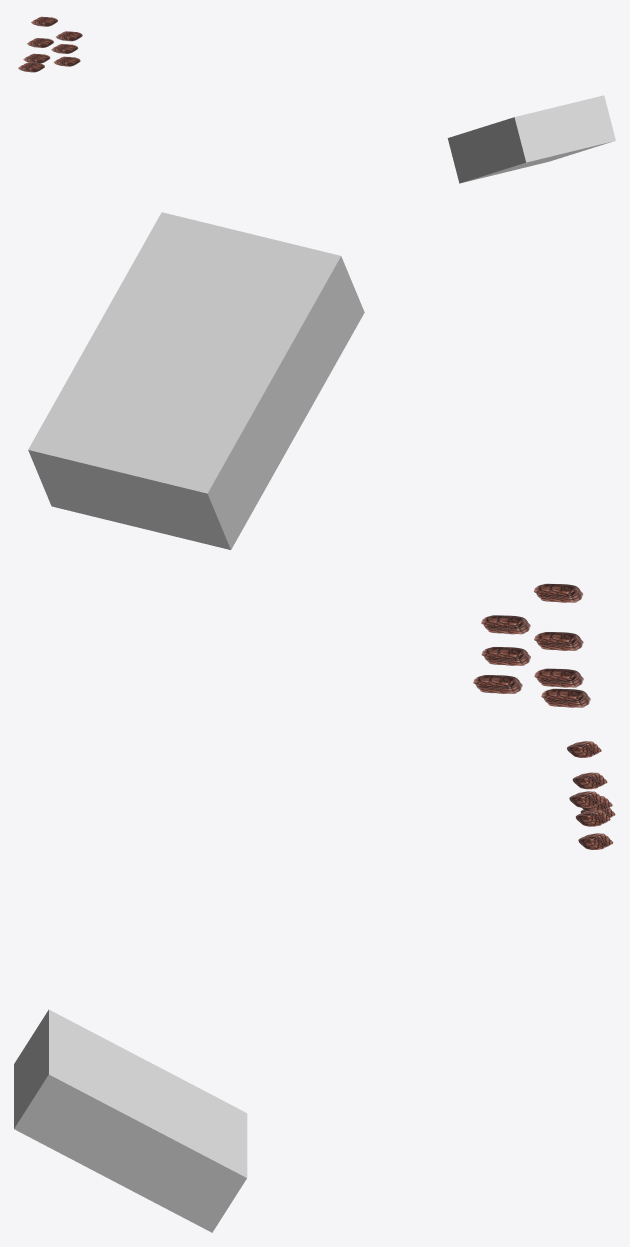
File: ani5.9f3ffcc0.glb
3 views of the same model, one above another, from view 1: azimuth 30°, elevation 25°; view 2: azimuth 150°, elevation 25°; view 3: azimuth 270°, elevation 25° (orthographic). The views are drawn at different scales.
Visible parts, largest first — view 1: Cube.001, Cube; view 2: Cube, Cube.001, Plane.005, Plane.001, Plane.006, Plane.003, Plane.002, Plane.007, Plane.004; view 3: Cube, Cube.001.
Boxes of the visible parts, x1=… form: Cube.001: x1=453, y1=118, x2=615, y2=183; Cube: x1=447, y1=95, x2=609, y2=160; Cube: x1=28, y1=212, x2=352, y2=521; Cube.001: x1=40, y1=285, x2=364, y2=549; Plane.005: x1=534, y1=668, x2=583, y2=687; Plane.001: x1=541, y1=688, x2=590, y2=707; Plane.006: x1=481, y1=615, x2=530, y2=634; Plane.003: x1=473, y1=675, x2=522, y2=693; Plane.002: x1=534, y1=632, x2=583, y2=650; Plane.007: x1=534, y1=583, x2=582, y2=602; Plane.004: x1=481, y1=647, x2=530, y2=665; Cube: x1=31, y1=1009, x2=247, y2=1205; Cube.001: x1=14, y1=1037, x2=229, y2=1232.
Bounding box in the file's own units: 39.24 × 13.23 × 34.54.
2 materials, 1 textured.
